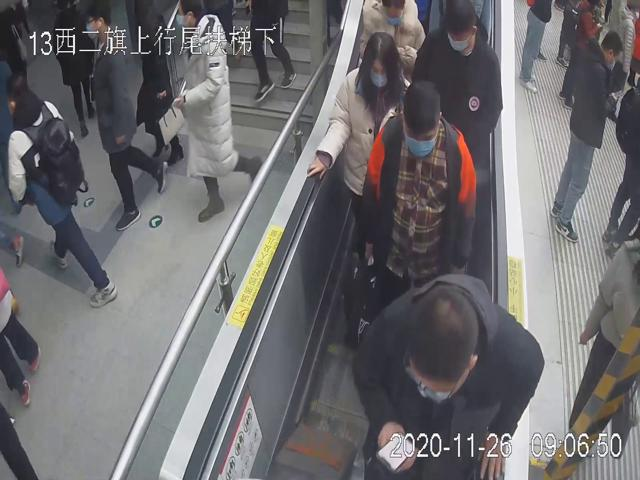person: (351, 272, 546, 480), (0, 77, 119, 309), (355, 78, 475, 288), (80, 2, 169, 232), (306, 31, 416, 216), (549, 28, 625, 243), (410, 0, 503, 161)
